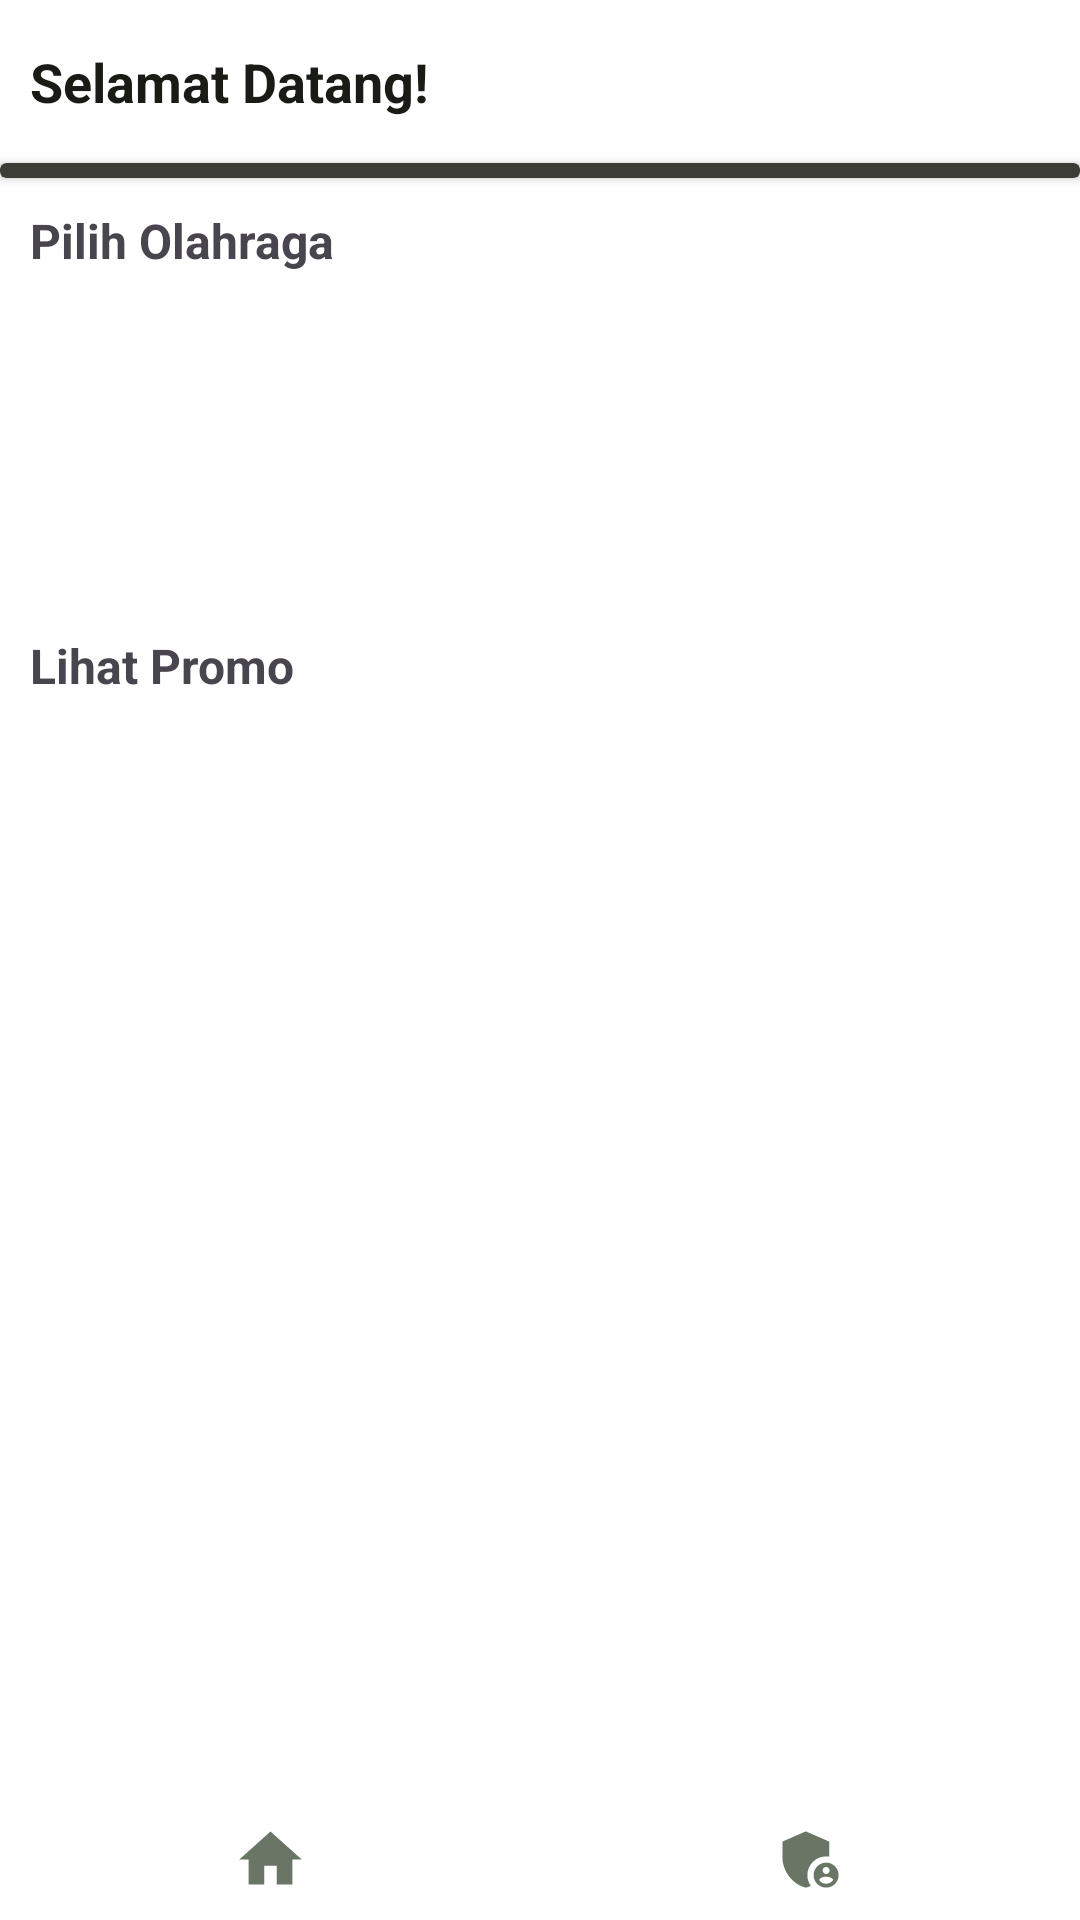

Icons on this 1080px x 1920px Android screen, each with the point to tap as point (x, y):
admin: point (810, 1859)
home: point (270, 1858)
